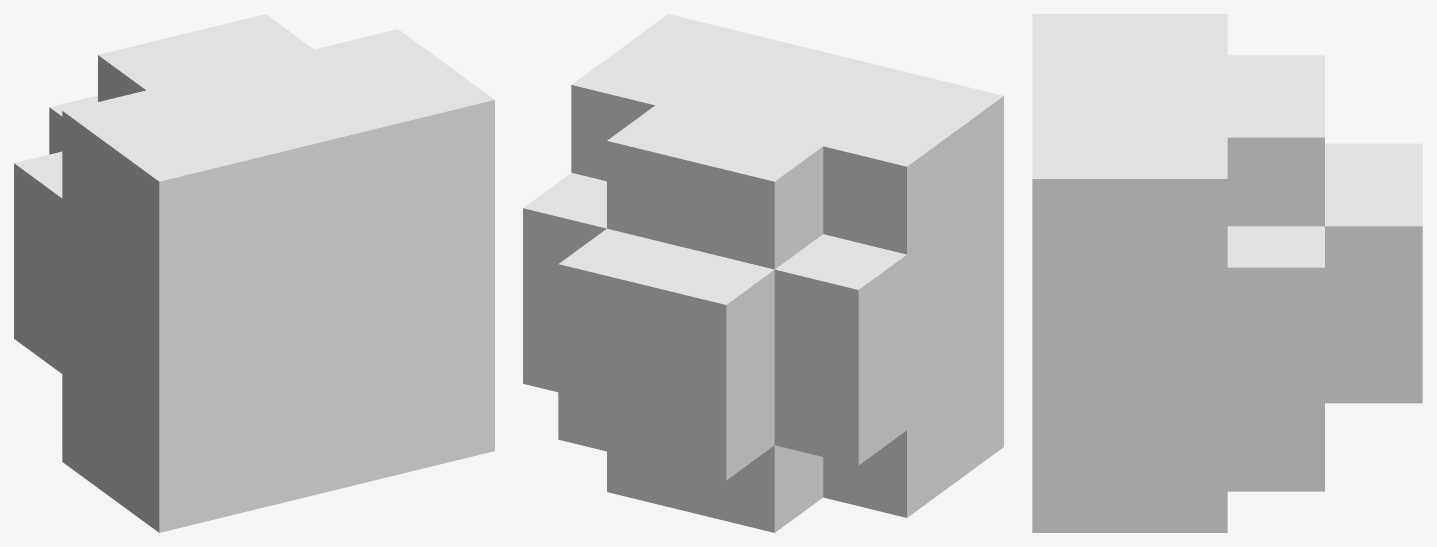
The model's file is FusionPistolProjectile.glb.
3 renders of one model, left to right at view 1: azimuth 30°, elevation 25°; view 2: azimuth 150°, elevation 25°; view 3: azimuth 270°, elevation 25°, orthographic.
Parts seen in each view (by area): view 1: FusionPistolProjectileMesh; view 2: FusionPistolProjectileMesh; view 3: FusionPistolProjectileMesh.
Part boxes in pixels (x1,y1,x2,y2): FusionPistolProjectileMesh: [14, 14, 494, 532]; FusionPistolProjectileMesh: [523, 14, 1003, 532]; FusionPistolProjectileMesh: [1032, 14, 1422, 532].
Size of the model in its own units: 0.4 by 0.4 by 0.4.
1 material, 1 textured.
